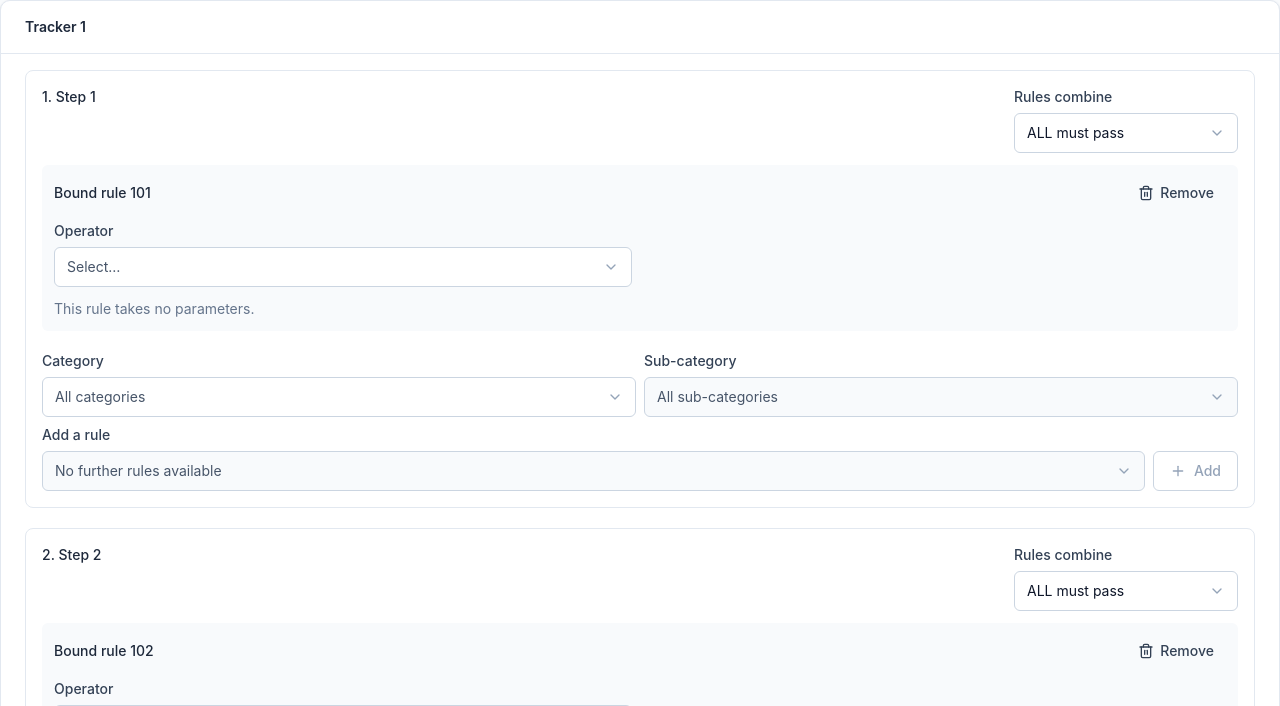
Scenario: ComponentRulesStep — operator + rules-combine (T-148) › TC-8: one component’s rules-combine draft never reaches a sibling component
The width and height of the screenshot is (1280, 706).
Click the dropdown named "rules combine" at (1126, 133), box [1014,113,1238,153]
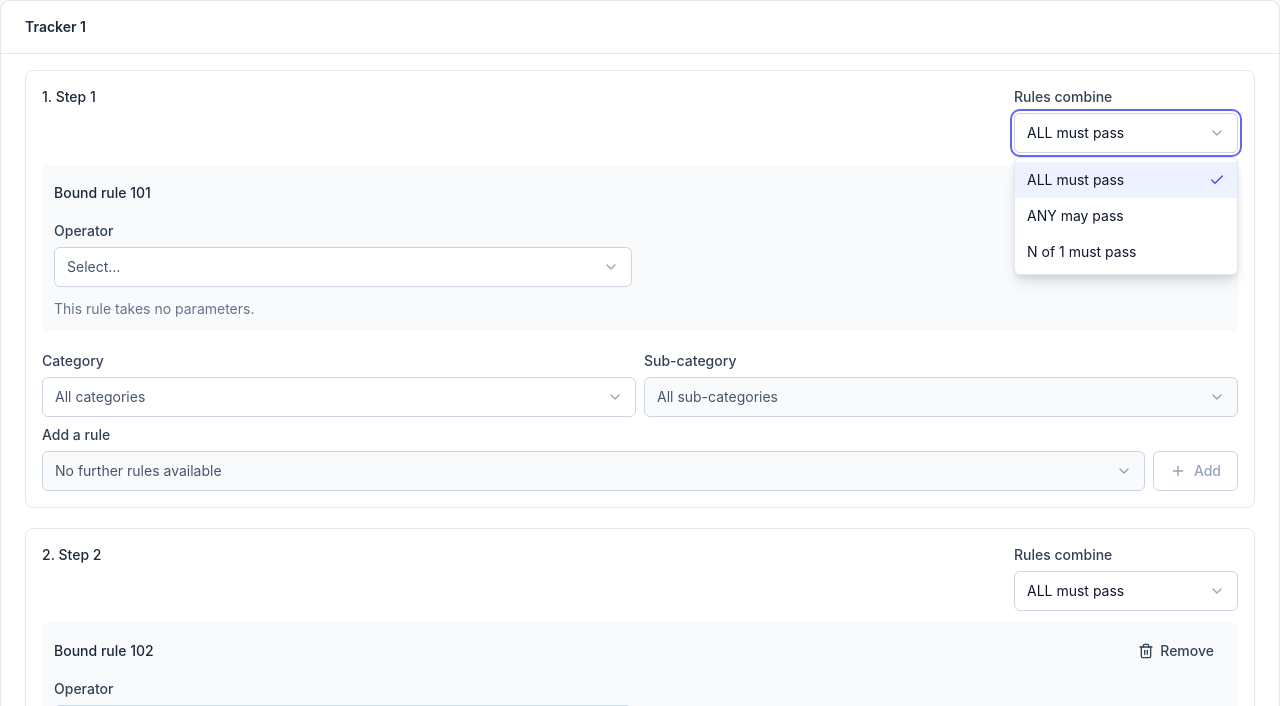
Click the option "ANY may pass" at (1075, 216), box [1027,207,1124,224]
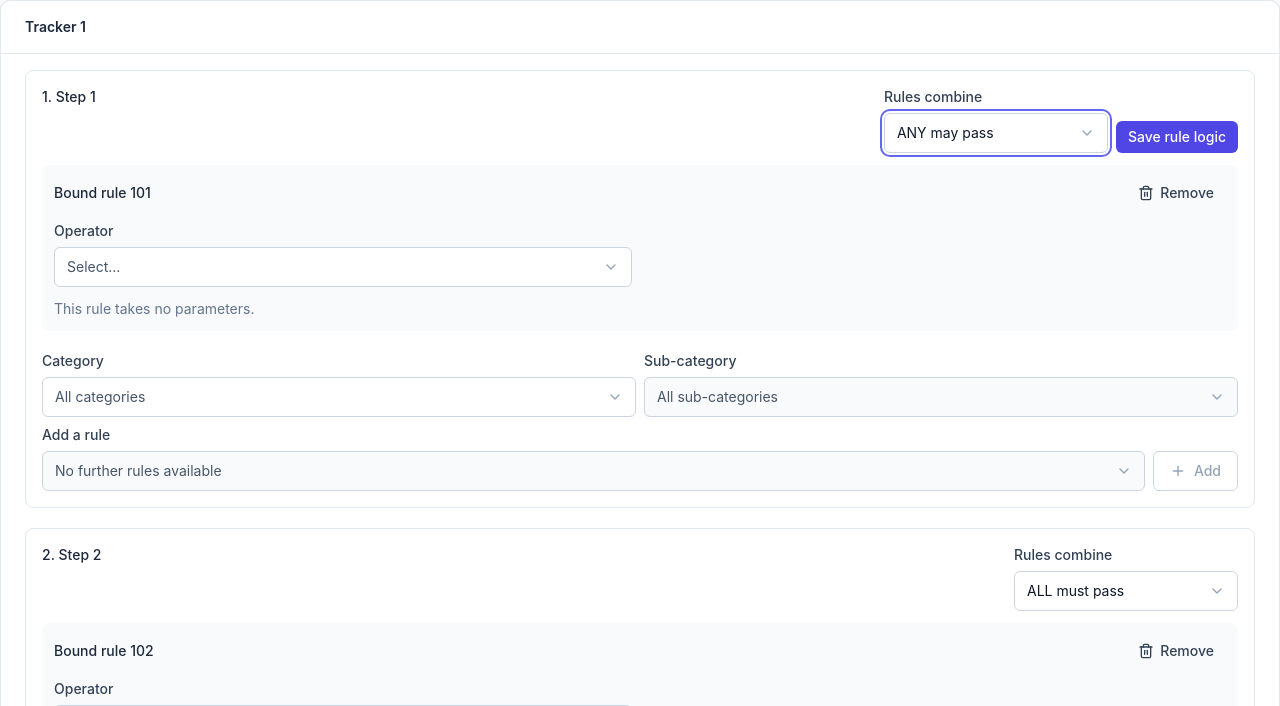
Check: the dropdown named "rules combine" reads "ALL must pass", box [1014,571,1238,611]
Check: the dropdown named "rules combine" reads "ANY may pass", box [884,113,1108,153]
Check: the number of buttons "Save rule logic" is 1, box [1116,121,1238,153]
